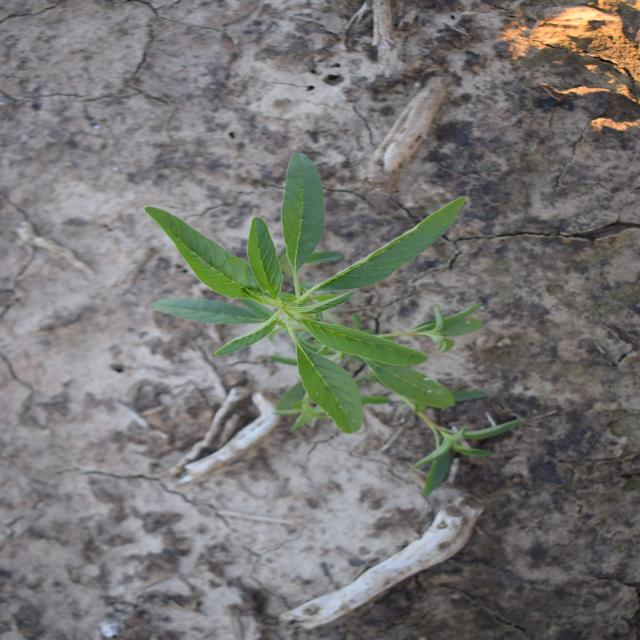Waterhemp: (140, 152, 532, 498)
